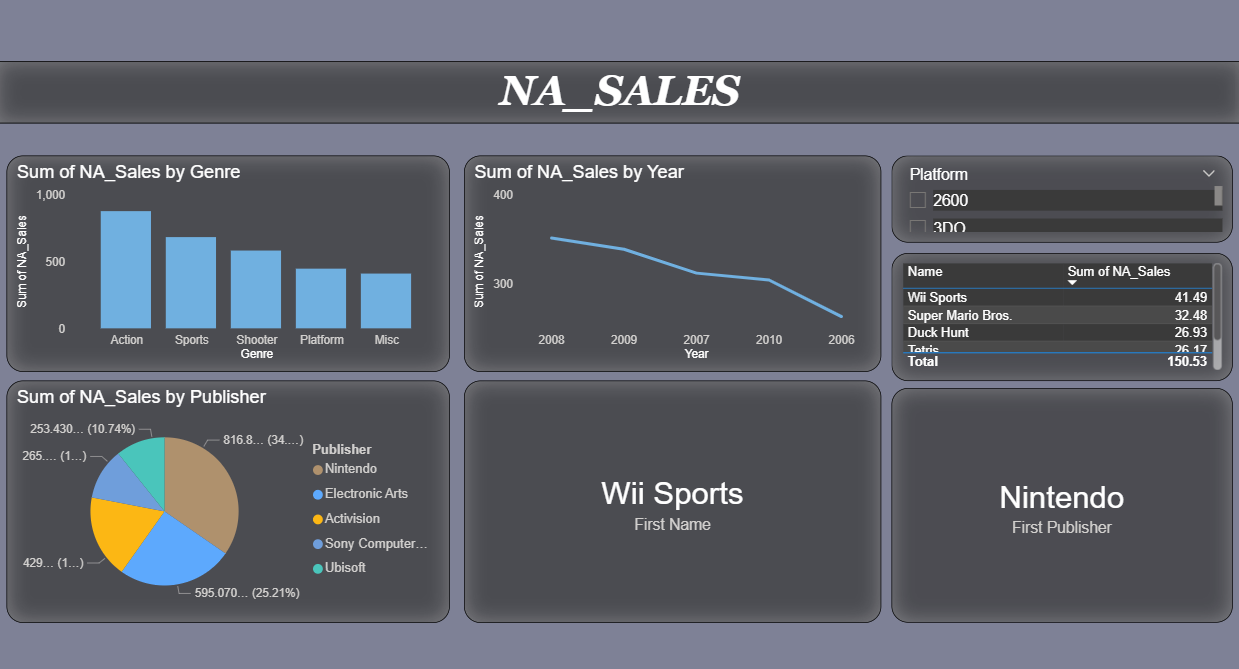

What the dashboard file says about the page in this screenshot:
{"tool":"powerbi","page":{"name":"NA_Sales","canvas":[1280,720],"ordinal":3},"visuals":[{"type":"clusteredColumnChart","fields":{"Y":["Sum(vgsales xlsx - vgsales.NA_Sales)"],"Category":["vgsales xlsx - vgsales.Genre"]},"box":[10.9,161,454.8,221.9],"z":0},{"type":"lineChart","fields":{"Category":["vgsales xlsx - vgsales.Year"],"Y":["Sum(vgsales xlsx - vgsales.NA_Sales)"]},"box":[479.8,161,428.3,221.9],"z":1000},{"type":"pieChart","fields":{"Category":["vgsales xlsx - vgsales.Publisher"],"Y":["Sum(vgsales xlsx - vgsales.NA_Sales)"]},"box":[10.9,392.3,454.8,248.5],"z":2000},{"type":"tableEx","fields":{"Values":["vgsales xlsx - vgsales.Name","Sum(vgsales xlsx - vgsales.NA_Sales)"]},"box":[919,261,350.1,131.3],"z":3000},{"type":"slicer","fields":{"Values":["vgsales xlsx - vgsales.Platform"]},"box":[919,161,350.1,89.1],"z":4000},{"type":"card","fields":{"Values":["Min(vgsales xlsx - vgsales.Name)"]},"box":[479.8,392.3,428.3,248.5],"z":5000},{"type":"card","fields":{"Values":["Min(vgsales xlsx - vgsales.Publisher)"]},"box":[919,400.1,350.1,240.7],"z":6000},{"type":"textbox","box":[0,64,1280,64],"z":7000}]}

Visuals, with their boxes on the page's 1280x720 design canvas (x1, y1, x2, y2). These are canvas units, not pixel positions in the 1239x669 screenshot, which may show the page scaled, cropped or inside an application window:
clusteredColumnChart - Sum(vgsales xlsx - vgsales.NA_Sales) x vgsales xlsx - vgsales.Genre: rect(11, 161, 466, 383)
lineChart - vgsales xlsx - vgsales.Year x Sum(vgsales xlsx - vgsales.NA_Sales): rect(480, 161, 908, 383)
pieChart - vgsales xlsx - vgsales.Publisher x Sum(vgsales xlsx - vgsales.NA_Sales): rect(11, 392, 466, 641)
tableEx - vgsales xlsx - vgsales.Name x Sum(vgsales xlsx - vgsales.NA_Sales): rect(919, 261, 1269, 392)
slicer - vgsales xlsx - vgsales.Platform: rect(919, 161, 1269, 250)
card - Min(vgsales xlsx - vgsales.Name): rect(480, 392, 908, 641)
card - Min(vgsales xlsx - vgsales.Publisher): rect(919, 400, 1269, 641)
textbox: rect(0, 64, 1280, 128)
